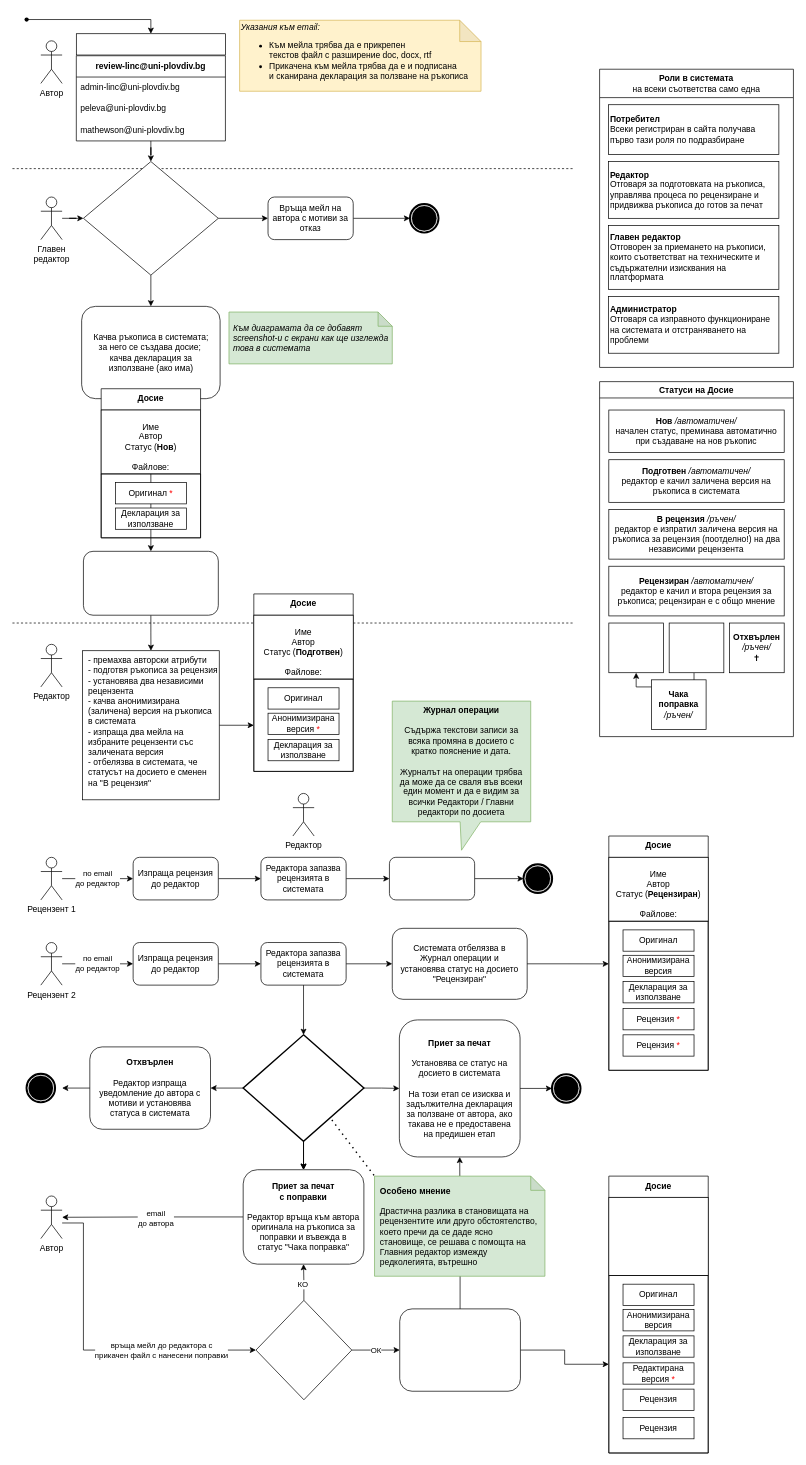
The diagram is 806 pixels wide and 1465 high, and some of its shapes have lost their labels. The shapes that lost their labels are listed below. From the top down, each one's centre as x and y in pixels, then its label:
At point (150, 44): "Изпраща ръкопис на адрес".
At point (150, 218): "Отговаря ли ръкописа на изискванията на платформата?".
At point (150, 583): "Изпраща email до избран редактор с link до досието".
At point (635, 647): "Приет за печат /ръчен/ ✝".
At point (696, 647): "Приет за печат с поправки /ръчен/".
At point (432, 878): "Системата отбелязва в Журнал операции".
At point (303, 1088): "Какво е становището от рецензията?".
At point (658, 1236): "Име Автор Статус ( Приет за печат ) Файлове:".
At point (303, 1350): "Проверка на поправеният ръкопис".
At point (459, 1349): "Редактор прикачва редактирана версия на ръкописа в системата".
